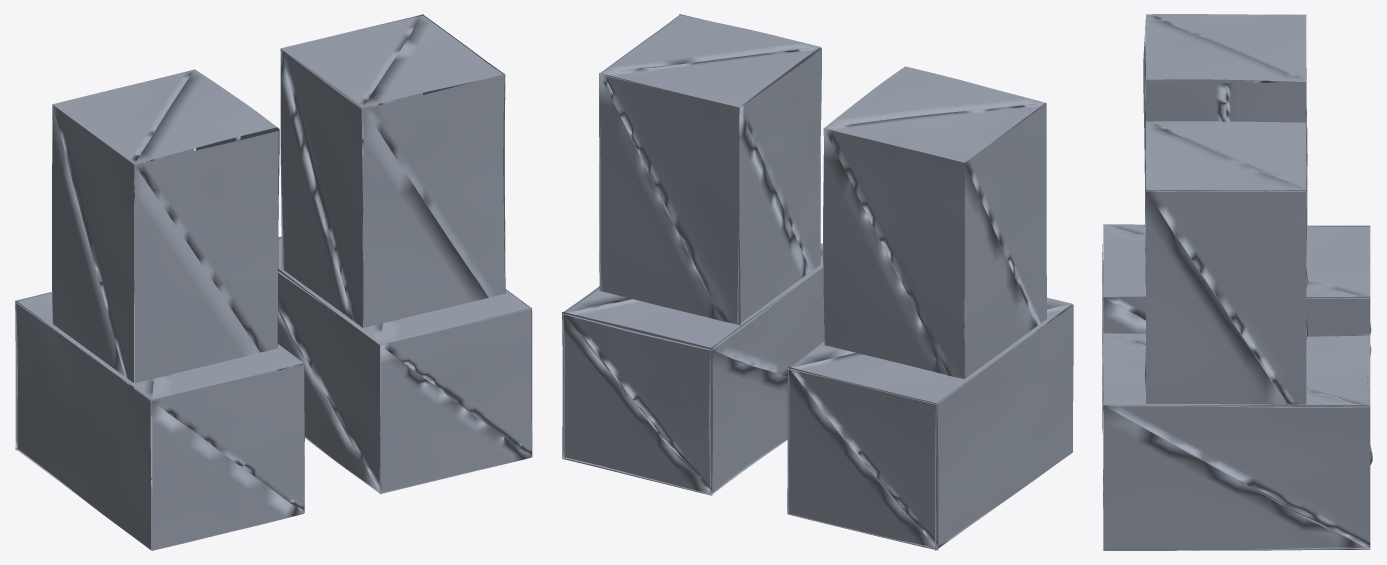
The model's file is boots.glb.
3 renders of one model, left to right at view 1: azimuth 30°, elevation 25°; view 2: azimuth 150°, elevation 25°; view 3: azimuth 270°, elevation 25°, orthographic. The views are drawn at different scales.
Visible parts, largest first — view 1: BootLeft; view 2: BootLeft; view 3: BootLeft.
Boxes of the visible parts, left/top/right/bottom form: BootLeft: left=15, top=14, right=532, bottom=550; BootLeft: left=561, top=14, right=1073, bottom=550; BootLeft: left=1102, top=14, right=1372, bottom=550.
Size of the model in its own units: 0.8039 by 0.7499 by 0.5068.
